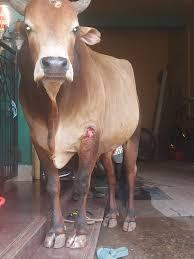cut: (64, 123, 103, 147)
